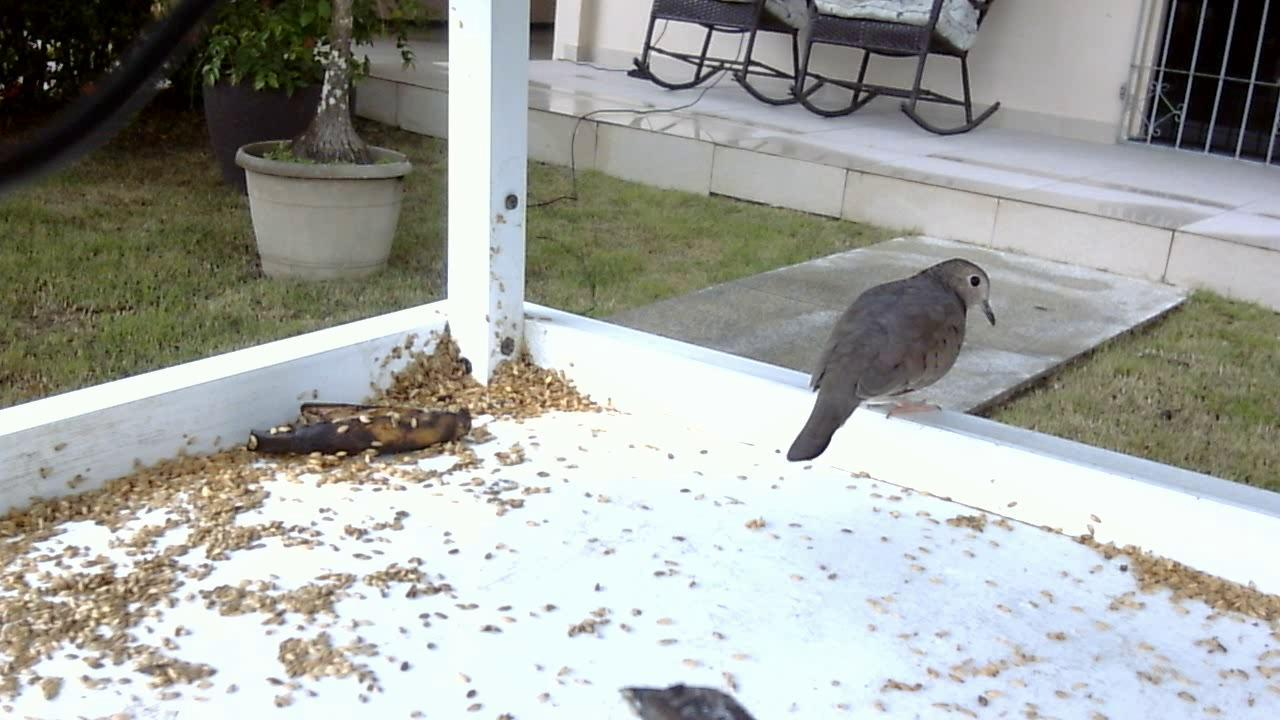rolinha: (781, 252, 994, 474)
